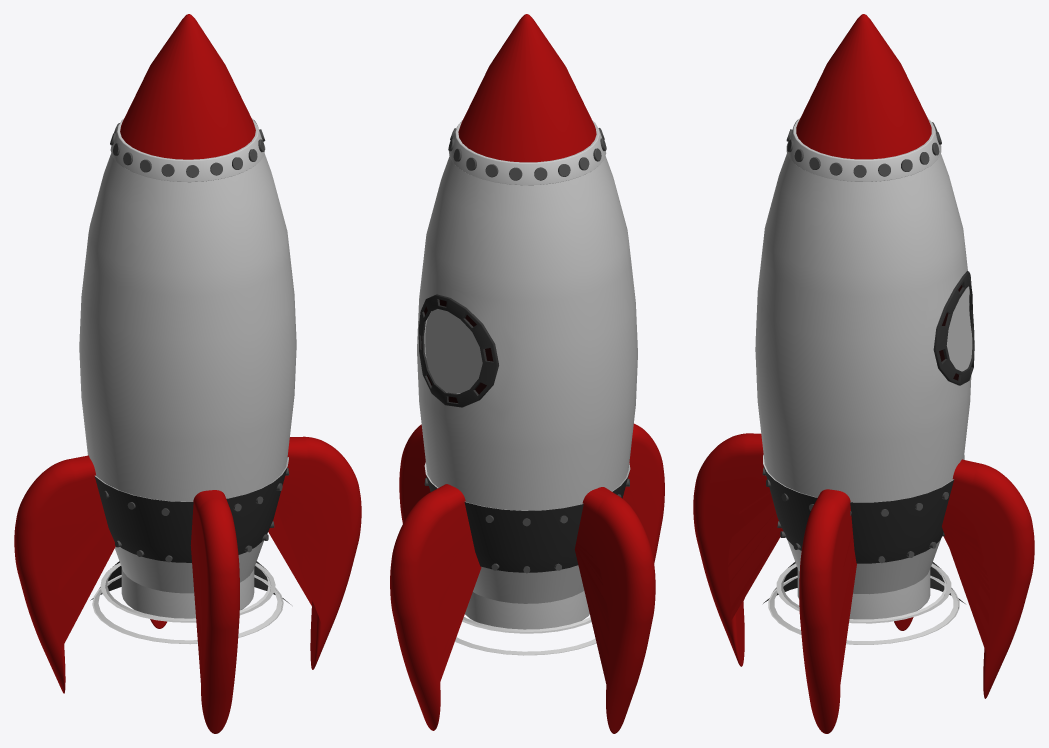
The model's file is day 2 rocket.obj.
3 views of the same model, side by side, from view 1: azimuth 30°, elevation 25°; view 2: azimuth 150°, elevation 25°; view 3: azimuth 270°, elevation 25° (orthographic).
Parts seen in each view (by area): view 1: Circle.002_Circle.003, Cube.002_Cube.005, Circle_Circle.001, Cylinder; view 2: Circle.002_Circle.003, Cube.002_Cube.005, Circle.001_Circle, Circle_Circle.001, Cylinder; view 3: Circle.002_Circle.003, Cube.002_Cube.005, Circle_Circle.001, Circle.001_Circle, Cylinder.
Boxes of the visible parts, box(x1,y1,x2,y2) form: Circle.002_Circle.003: box(79, 14, 296, 644); Cube.002_Cube.005: box(14, 436, 361, 733); Circle_Circle.001: box(110, 118, 265, 182); Cylinder: box(110, 120, 265, 177); Circle.002_Circle.003: box(417, 14, 637, 655); Cube.002_Cube.005: box(390, 423, 664, 733); Circle.001_Circle: box(425, 309, 482, 393); Circle_Circle.001: box(449, 120, 606, 185); Cylinder: box(448, 128, 606, 180); Circle.002_Circle.003: box(755, 14, 974, 644); Cube.002_Cube.005: box(693, 433, 1034, 733); Circle_Circle.001: box(786, 118, 941, 181); Circle.001_Circle: box(946, 286, 972, 371); Cylinder: box(786, 119, 941, 177).
Size of what is drawn, in the model's own units: 1.09 by 2.34 by 1.09.
